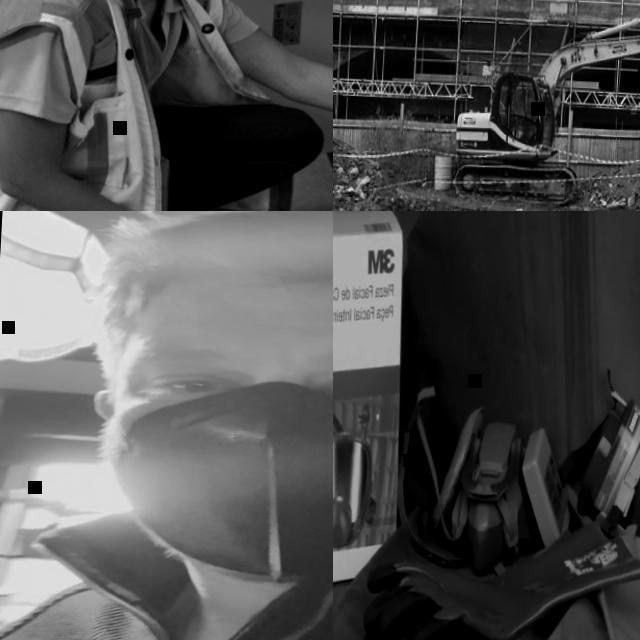machinery: (451, 0, 640, 211)
mask: (100, 387, 333, 591), (427, 399, 579, 578), (575, 391, 640, 559)
no_helmet: (100, 211, 333, 326)
no_vest: (0, 521, 333, 640)
person: (0, 211, 333, 640), (0, 0, 333, 211)
vest: (0, 0, 310, 211)
